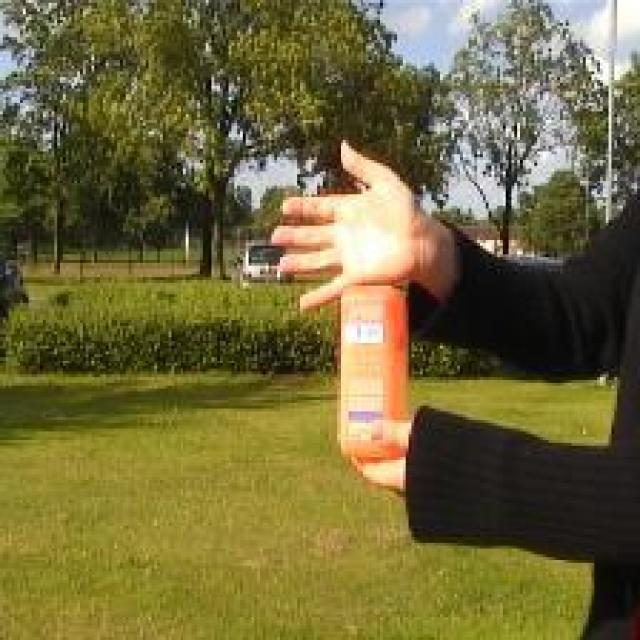other: (268, 178, 441, 276), (327, 272, 411, 467)
